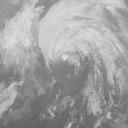cyclone: (39, 26, 102, 106)
